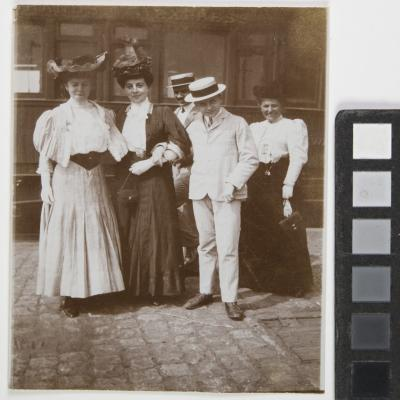photos_negatives: (11, 2, 324, 390)
